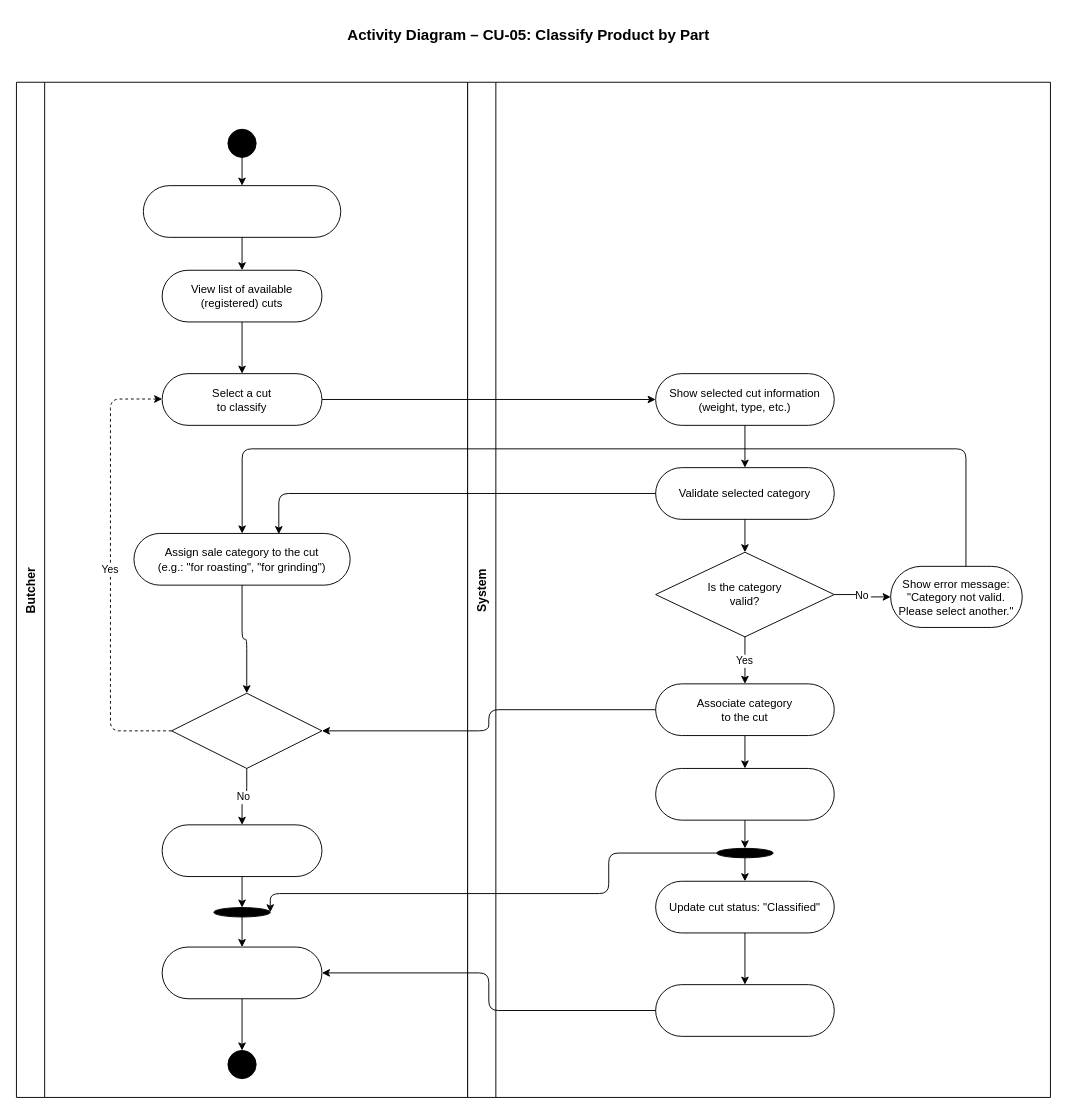
The diagram is 1067 pixels wide and 1114 high, and some of its shapes have lost their labels. The box of each missing label's shape, as (x1, y1, x2, y2) in pixels:
Classified product available for Cold Room Entry (CU-06): (655, 984, 834, 1036)
Classify another cut?: (171, 692, 322, 768)
Confirm cut classification: (161, 824, 322, 877)
Continue with Cold Room Entry (CU-06): (161, 946, 322, 999)
Save cut classification: (655, 768, 834, 820)
Select option "Classify product by part": (142, 185, 341, 237)
